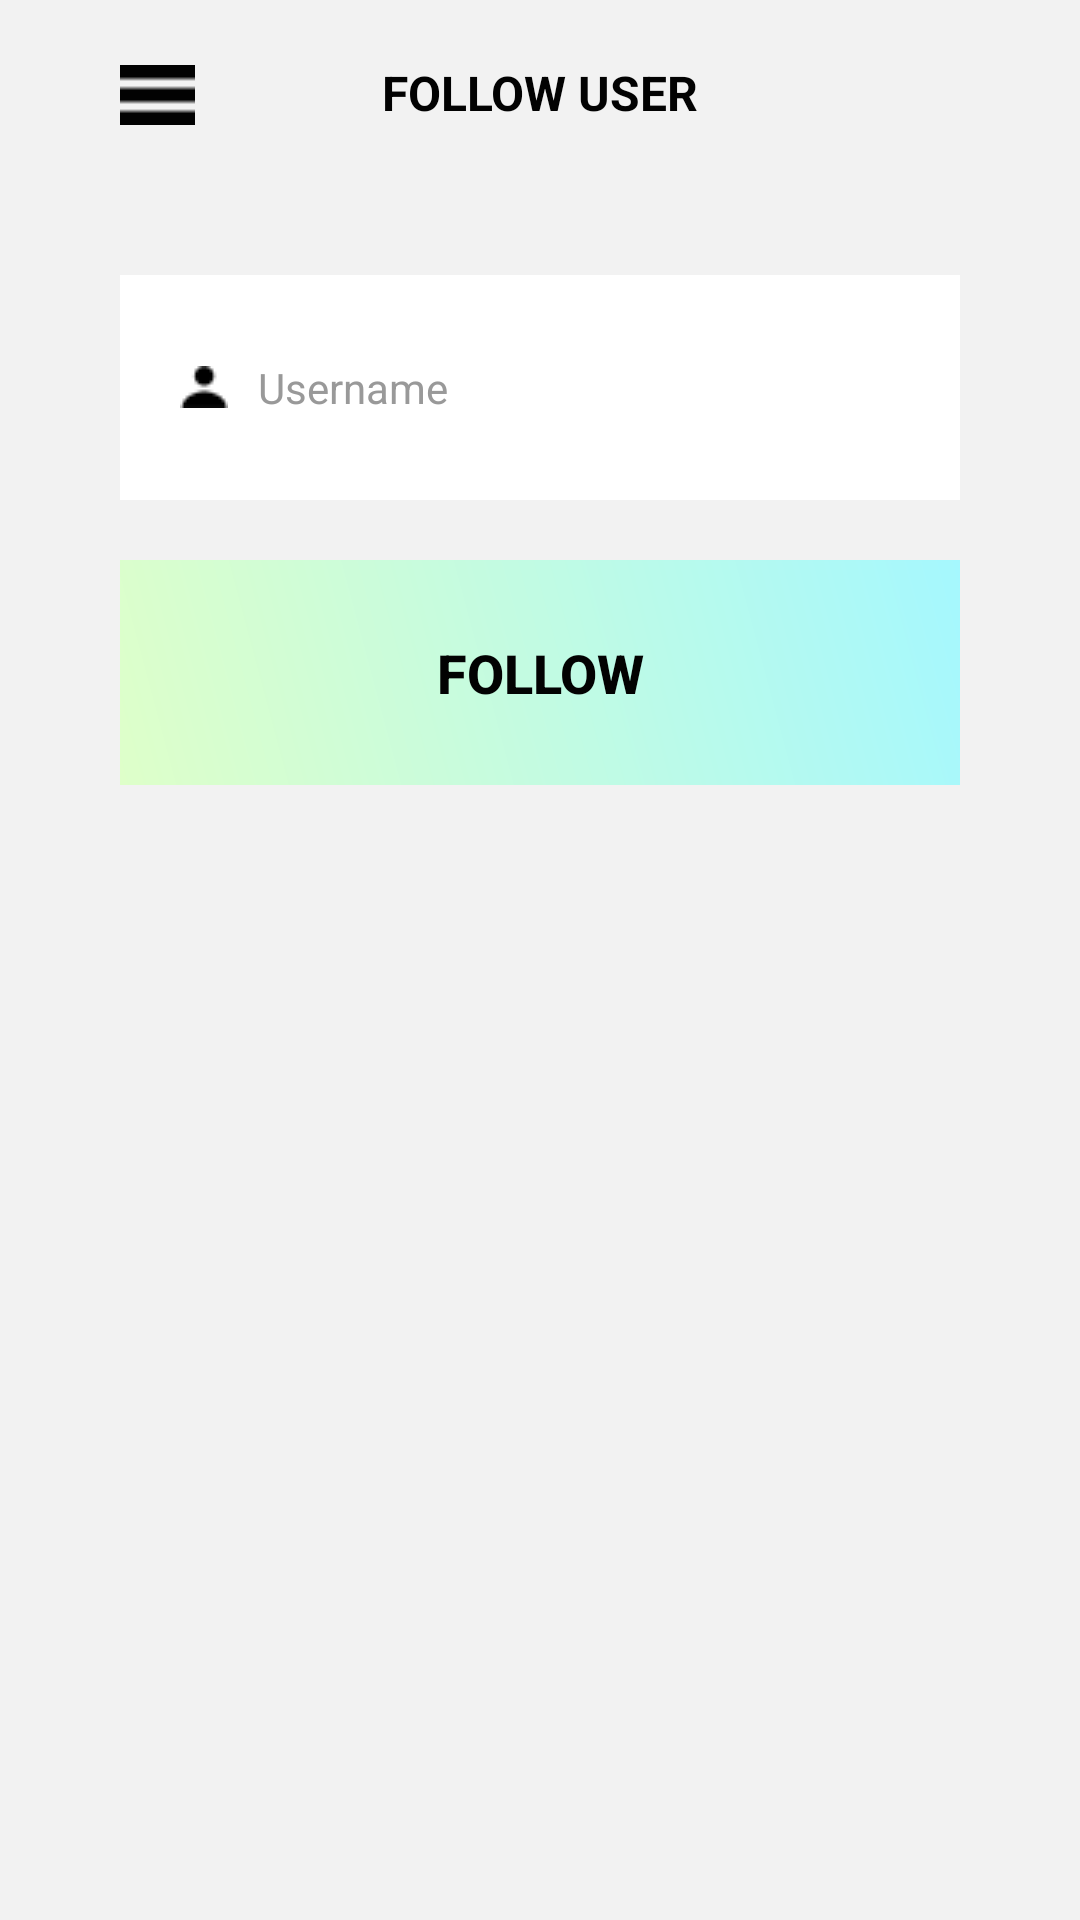

Named icons in this screenshot (1080 × 1920) and their bounding boxes, (x1, y1, x2, y2):
menu: (120, 65, 195, 125)
